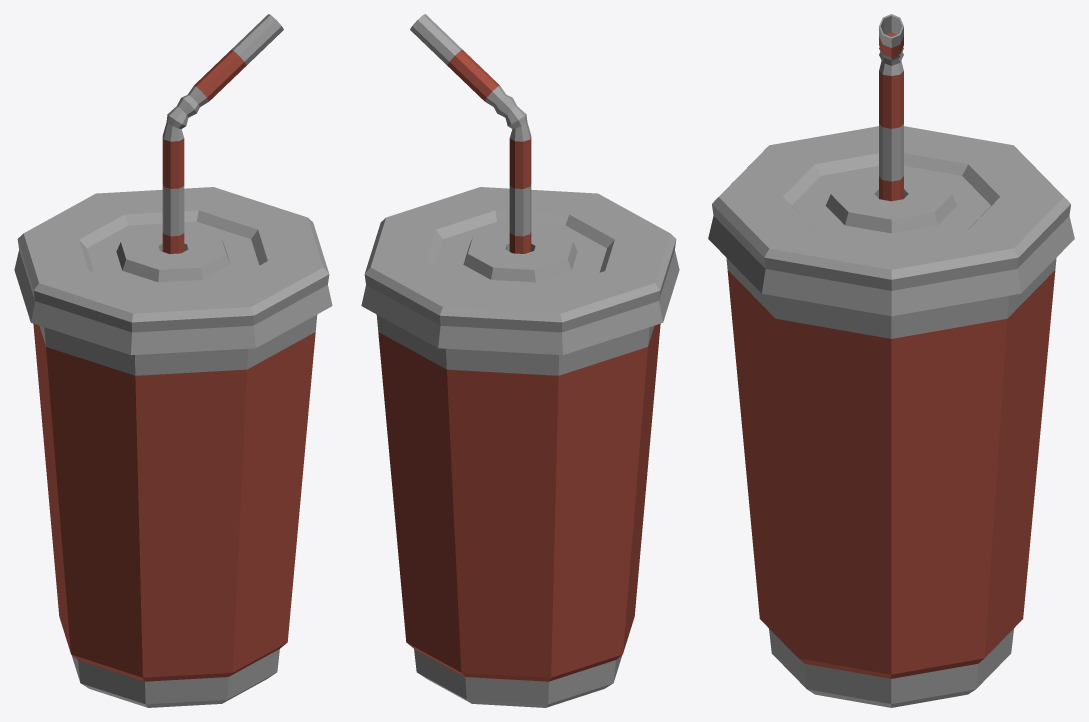
Rendered from SoftDrink.glb.
3 views of the same model, side by side, from view 1: azimuth 30°, elevation 25°; view 2: azimuth 150°, elevation 25°; view 3: azimuth 270°, elevation 25° (orthographic). The views are drawn at different scales.
Parts seen in each view (by area): view 1: Soda; view 2: Soda; view 3: Soda.
Part boxes in pixels (box(x1,y1,x2,y2)): Soda: box(14, 14, 332, 707); Soda: box(361, 14, 679, 707); Soda: box(708, 14, 1074, 707).
Bounding box in the file's own units: 0.9118 × 1.92 × 0.9118.
